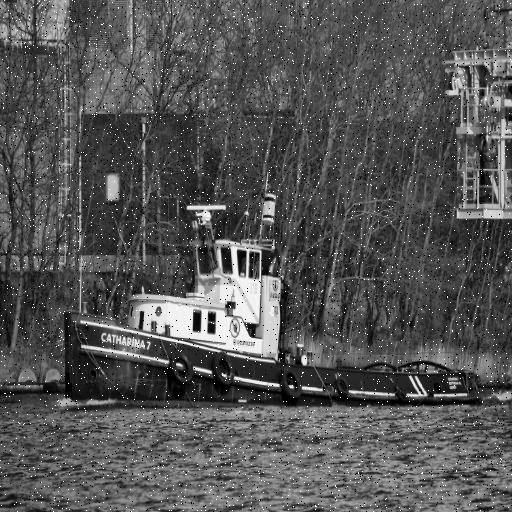tugboat: (60, 168, 493, 424)
